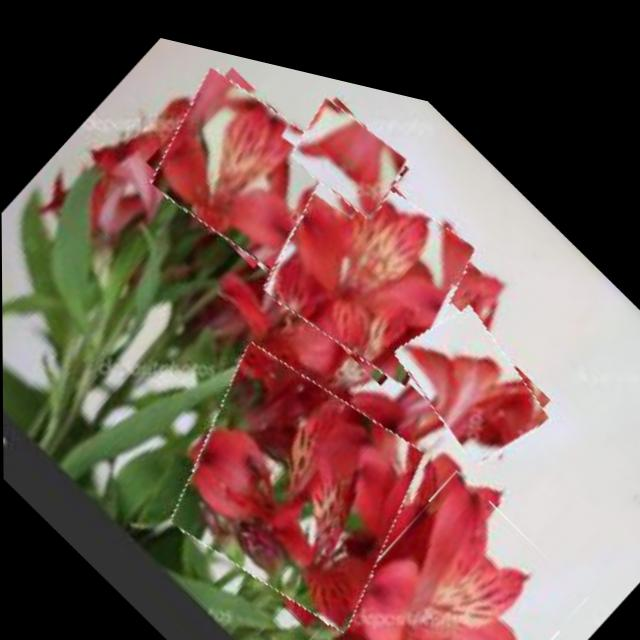Flower: (140, 287, 453, 640), (242, 101, 496, 403), (293, 417, 590, 640), (136, 30, 350, 285), (383, 260, 559, 463), (285, 68, 414, 218)
